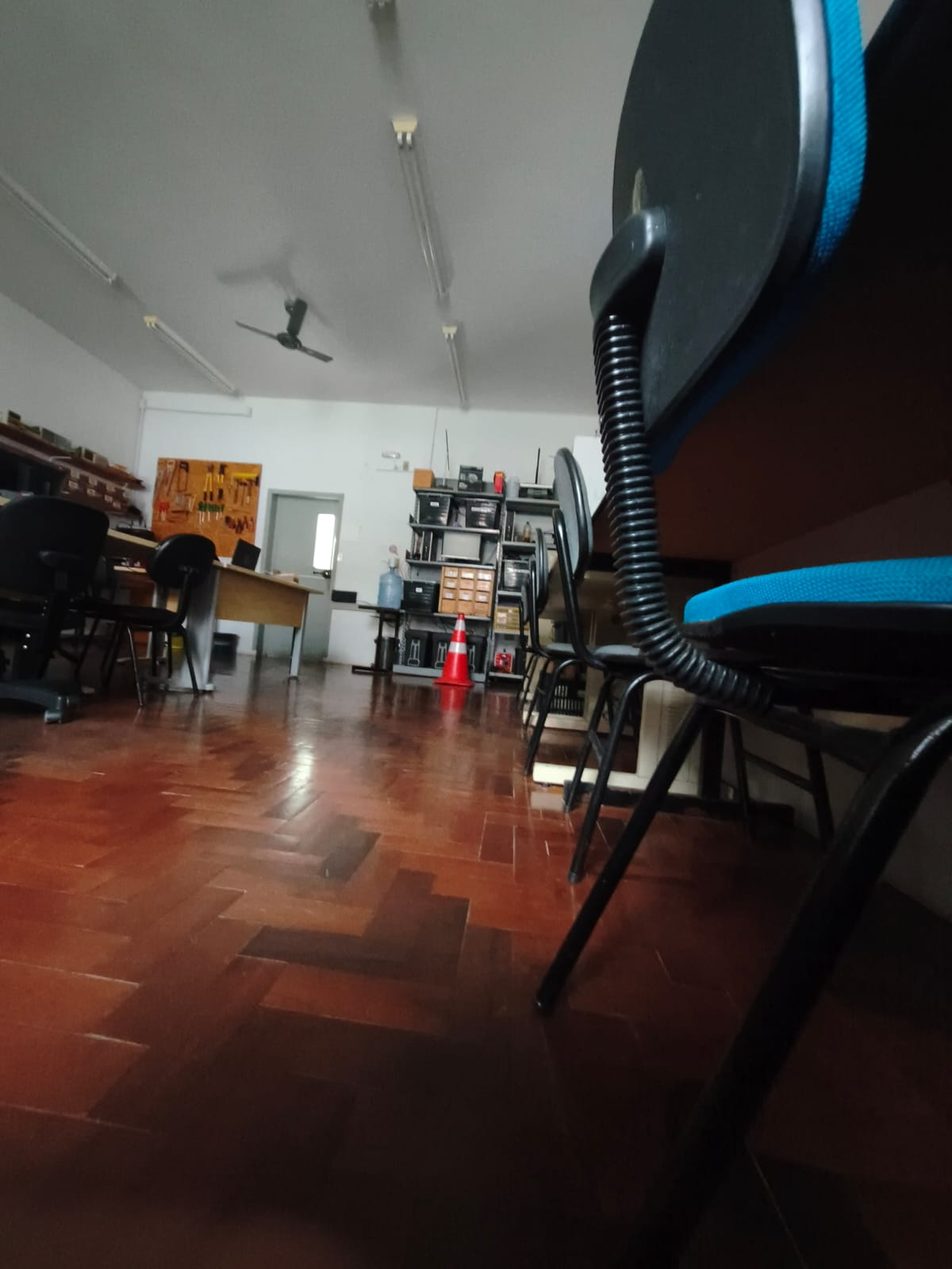cone: (434, 606, 482, 705)
